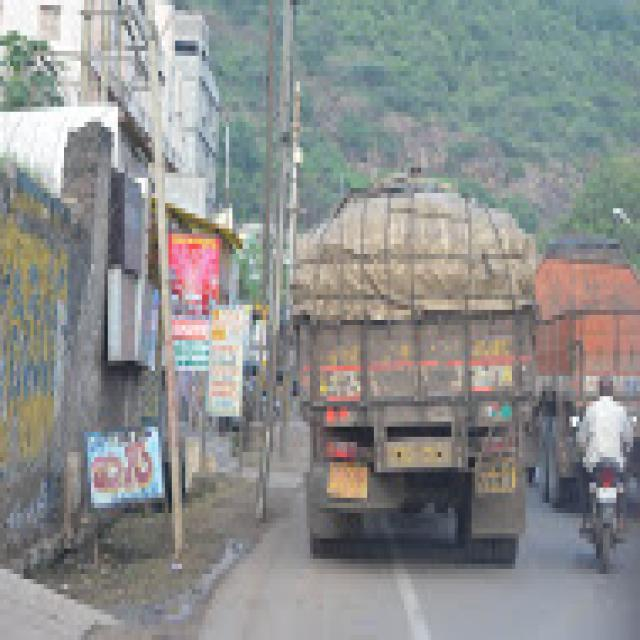truck_back: (286, 164, 542, 575), (536, 247, 640, 510)
two_wheeler_back: (567, 410, 640, 576)
